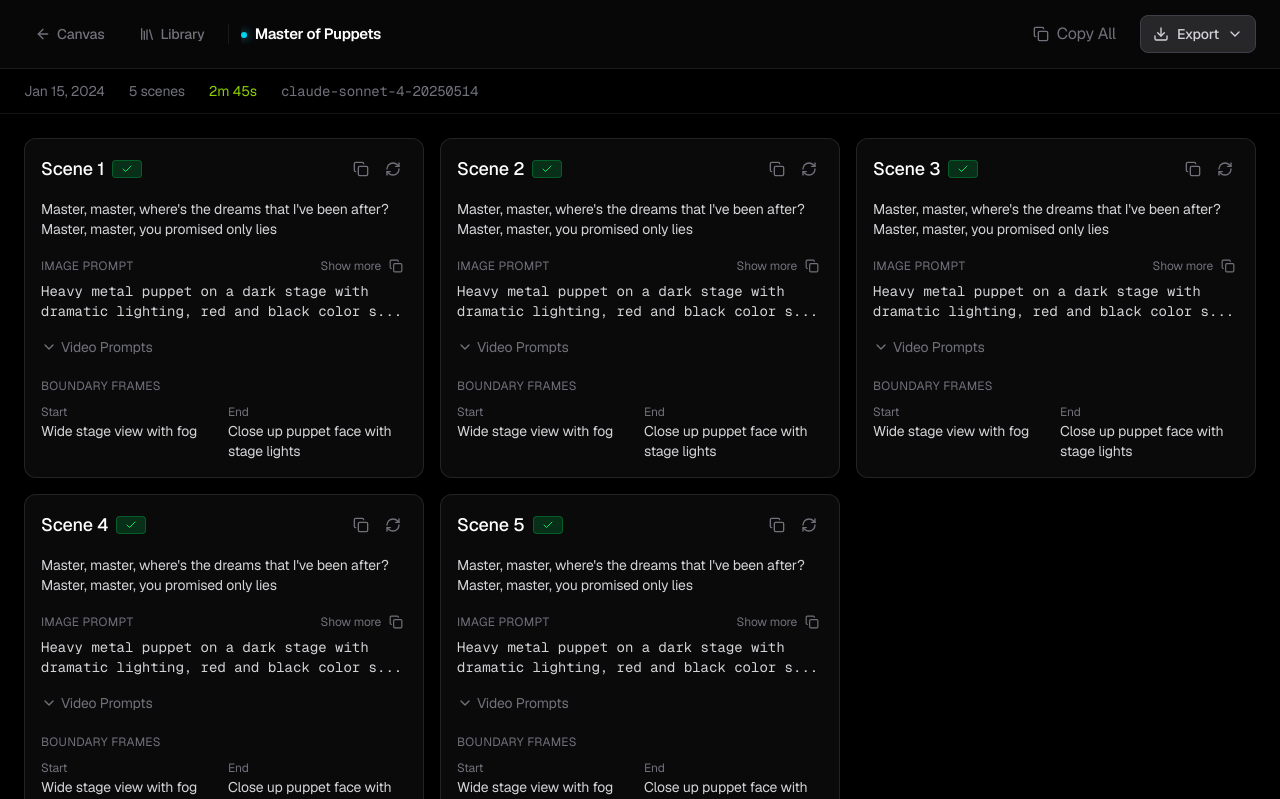
Scenario: RunViewer › Copy Functionality › shows success toast after copying
This screenshot has width=1280, height=799.
Click the button "Copy All": {"x": 1074, "y": 34} [1017, 14, 1132, 54]
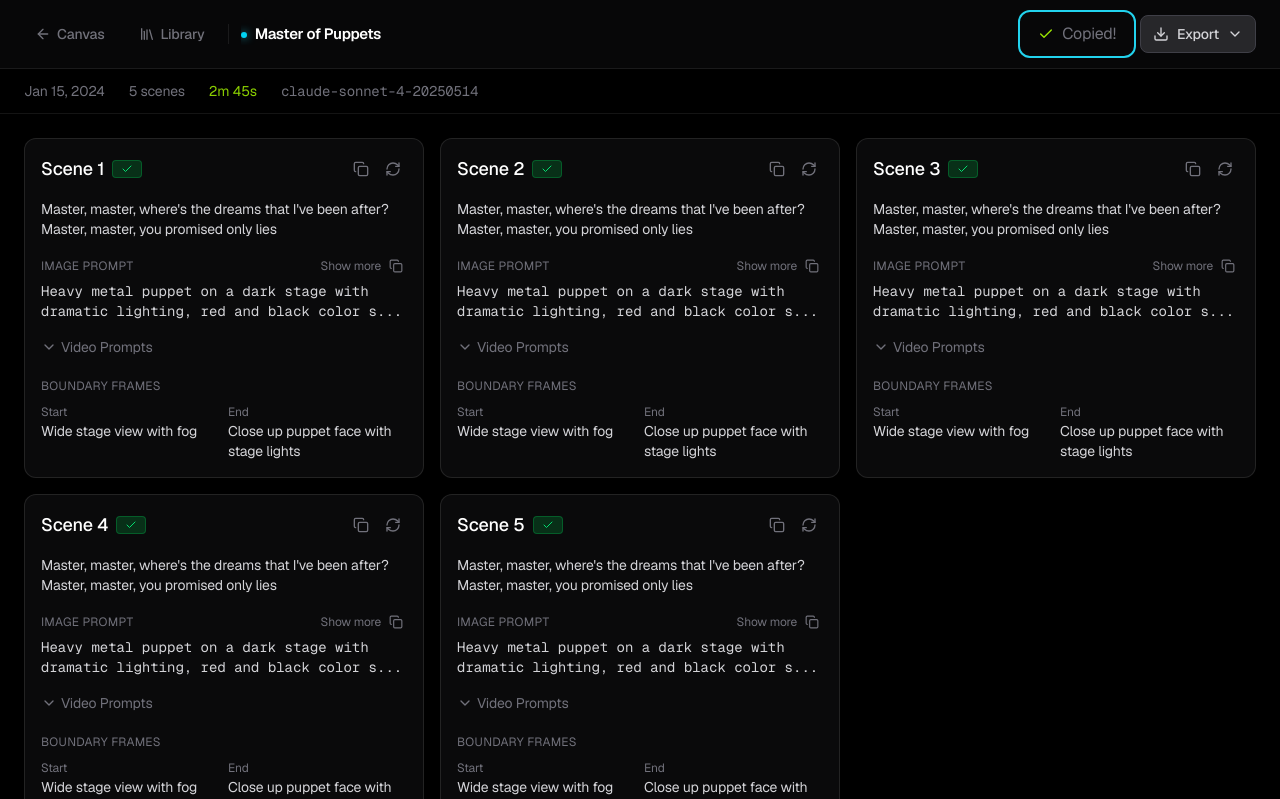
Now the button "Copied!" is shown, box [1022, 14, 1132, 54]
